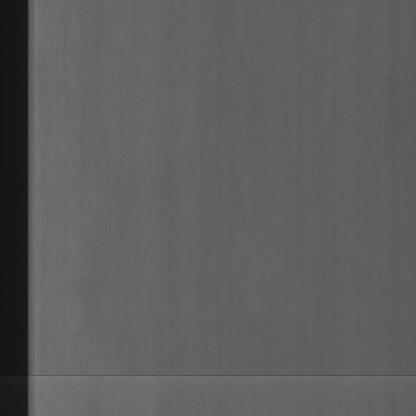welding_line: (26, 361, 416, 390)
